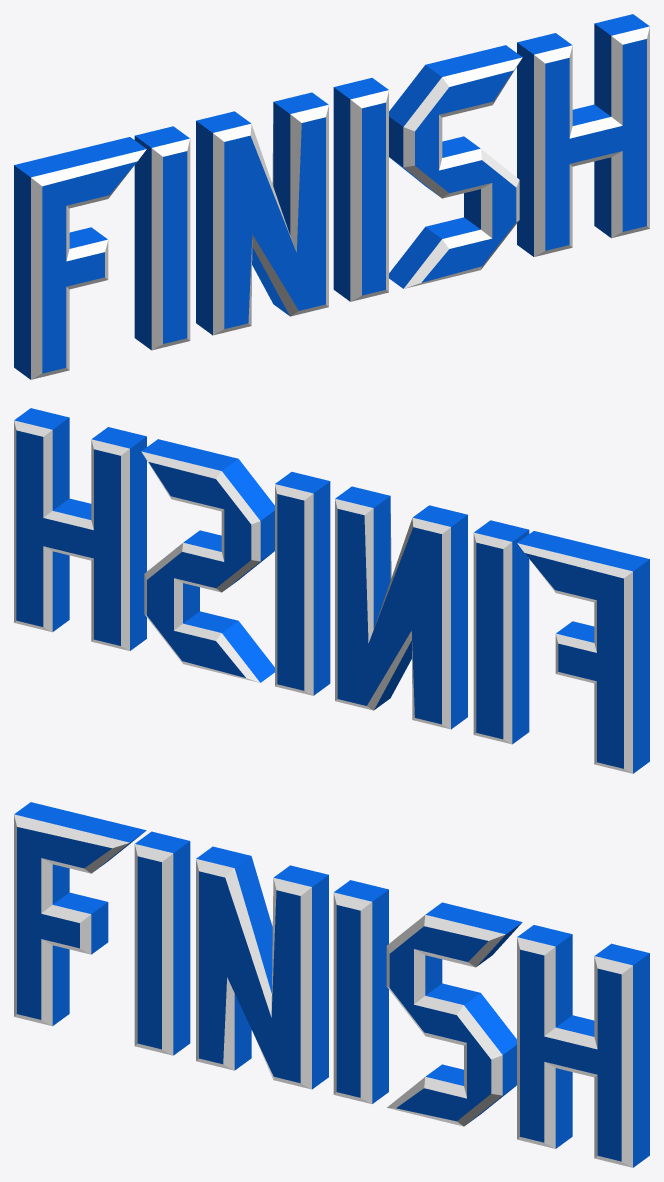
Rendered from finish.fbx.
The picture shows the model from 3 angles, top to bottom: view 1: azimuth 30°, elevation 25°; view 2: azimuth 150°, elevation 25°; view 3: azimuth 330°, elevation 25°; orthographic projection.
Visible parts, largest first — view 1: finish; view 2: finish; view 3: finish.
Part boxes in pixels (bbox=[...]): finish: bbox=[14, 14, 649, 379]; finish: bbox=[14, 408, 649, 773]; finish: bbox=[14, 802, 649, 1167].
Bounding box in the file's own units: 425 × 133 × 29.
